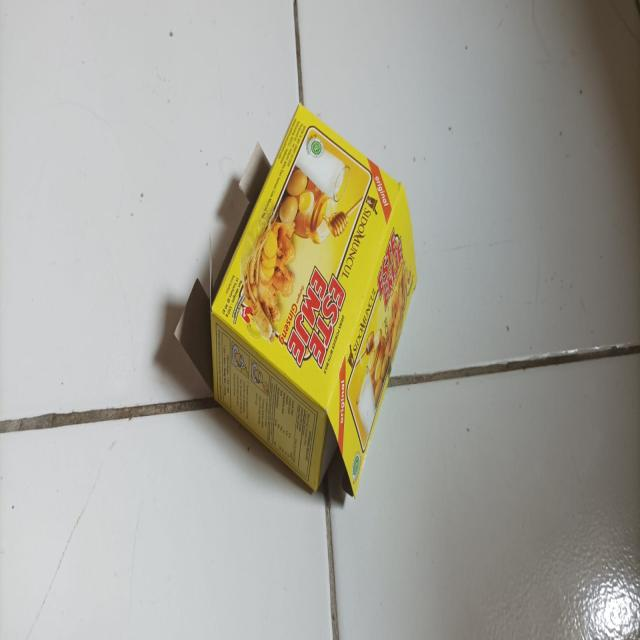Organik: (174, 108, 416, 492)
